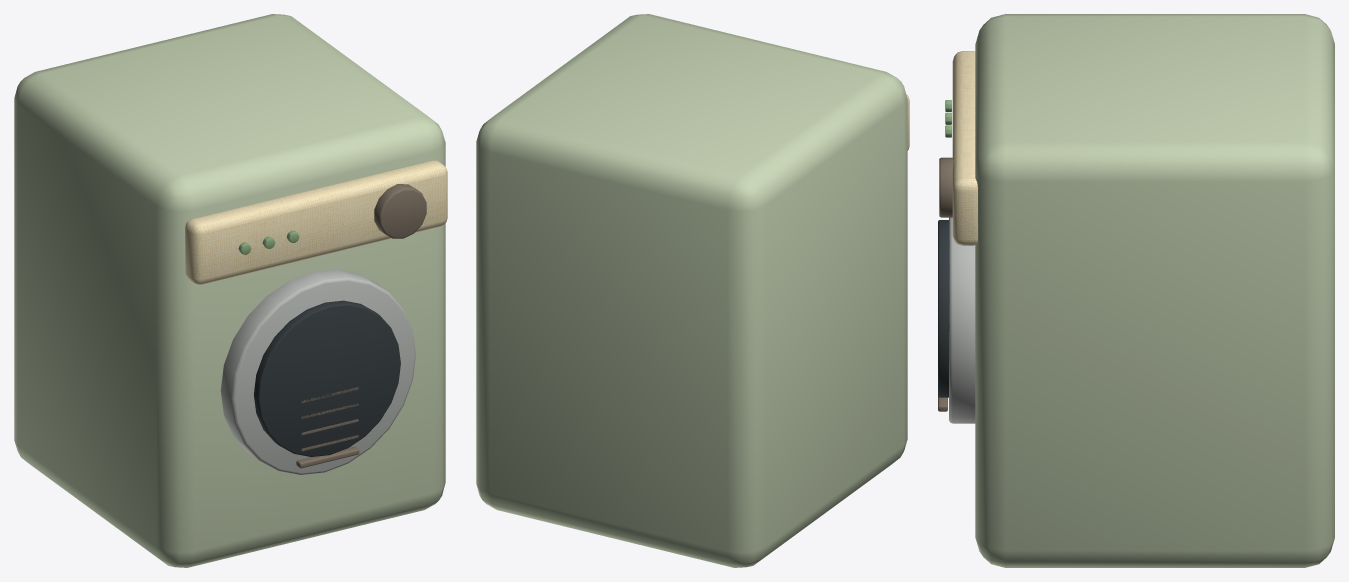
File: dryer.glb
The picture shows the model from 3 angles, left to right: view 1: azimuth 30°, elevation 25°; view 2: azimuth 150°, elevation 25°; view 3: azimuth 270°, elevation 25°; orthographic projection. The views are drawn at different scales.
Parts seen in each view (by area): view 1: dryer; view 2: dryer; view 3: dryer.
Part boxes in pixels (x1,y1,x2,y2): dryer: [14, 14, 447, 567]; dryer: [476, 14, 909, 567]; dryer: [938, 14, 1334, 567].
Size of the model in its own units: 0.6528 by 0.855 by 0.7265.
6 materials, 1 textured.
